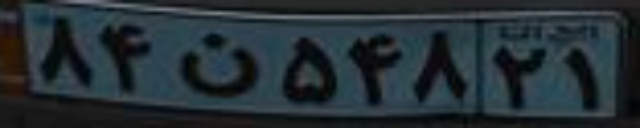1: (558, 45, 599, 111)
2: (489, 44, 552, 109)
4: (343, 34, 405, 105), (98, 24, 156, 93)
5: (273, 35, 342, 104)
8: (408, 30, 472, 101), (37, 16, 91, 86)
non: (177, 30, 260, 98)
